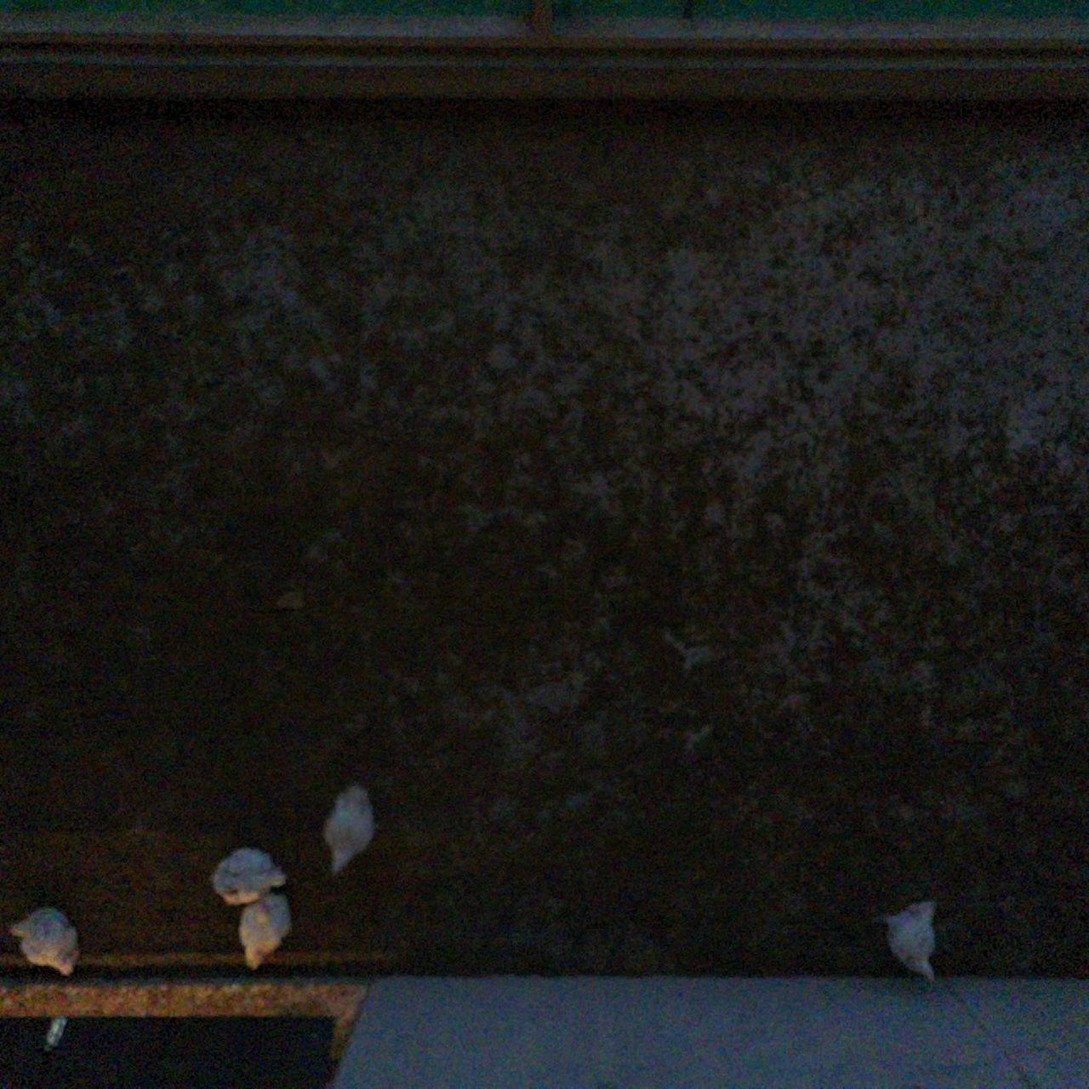chicken: (4, 902, 81, 977), (230, 886, 295, 972), (877, 894, 940, 982), (320, 782, 377, 872), (211, 846, 289, 908)
